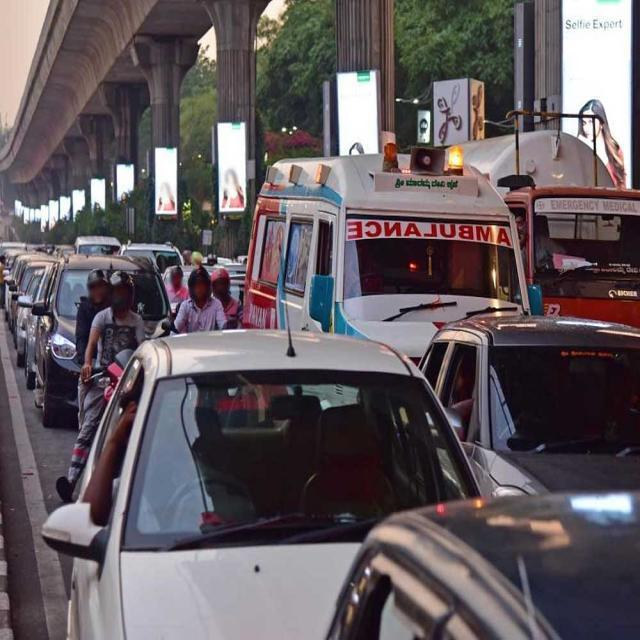Ambulance: (4, 112, 636, 636), (239, 144, 534, 366)
bike: (61, 269, 149, 493)
car: (38, 326, 485, 638), (322, 489, 638, 638), (415, 310, 638, 501)
truck: (440, 100, 638, 330)
